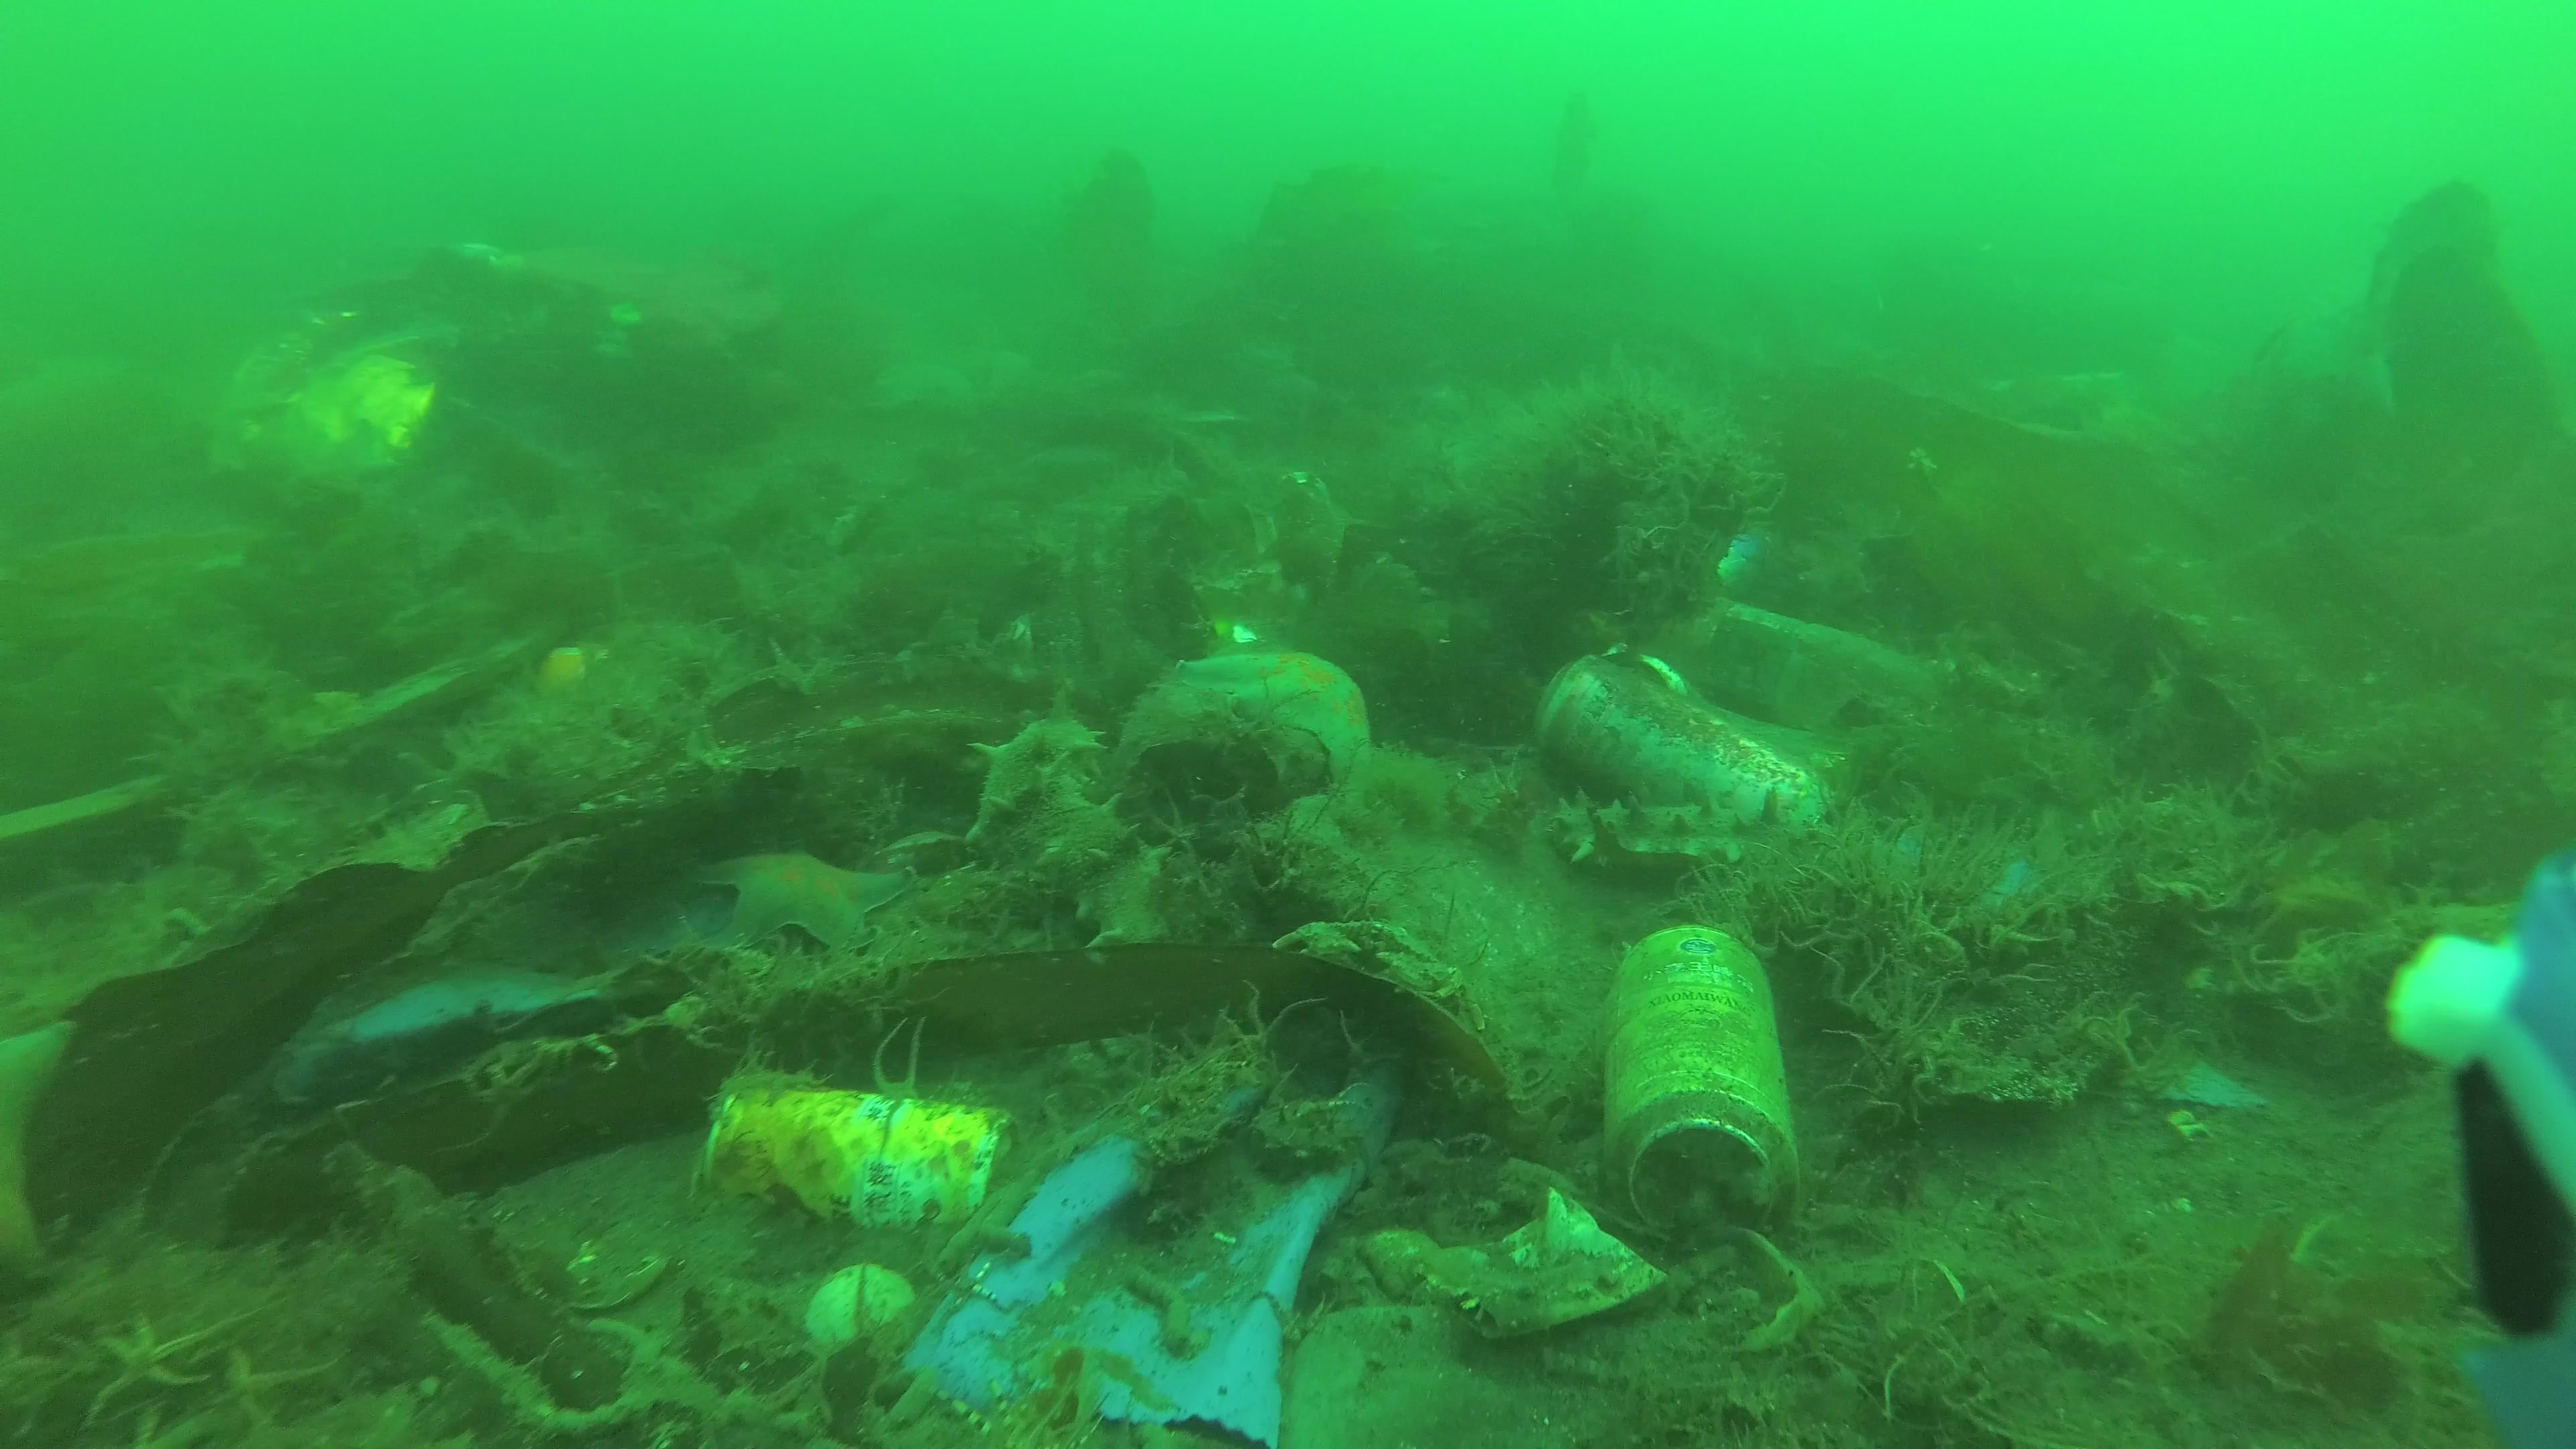holothurian: (955, 702, 1159, 957), (1552, 789, 1835, 885)
scallop: (869, 830, 977, 885)
starfish: (1175, 648, 1373, 789), (694, 849, 908, 955), (85, 1322, 251, 1430)
